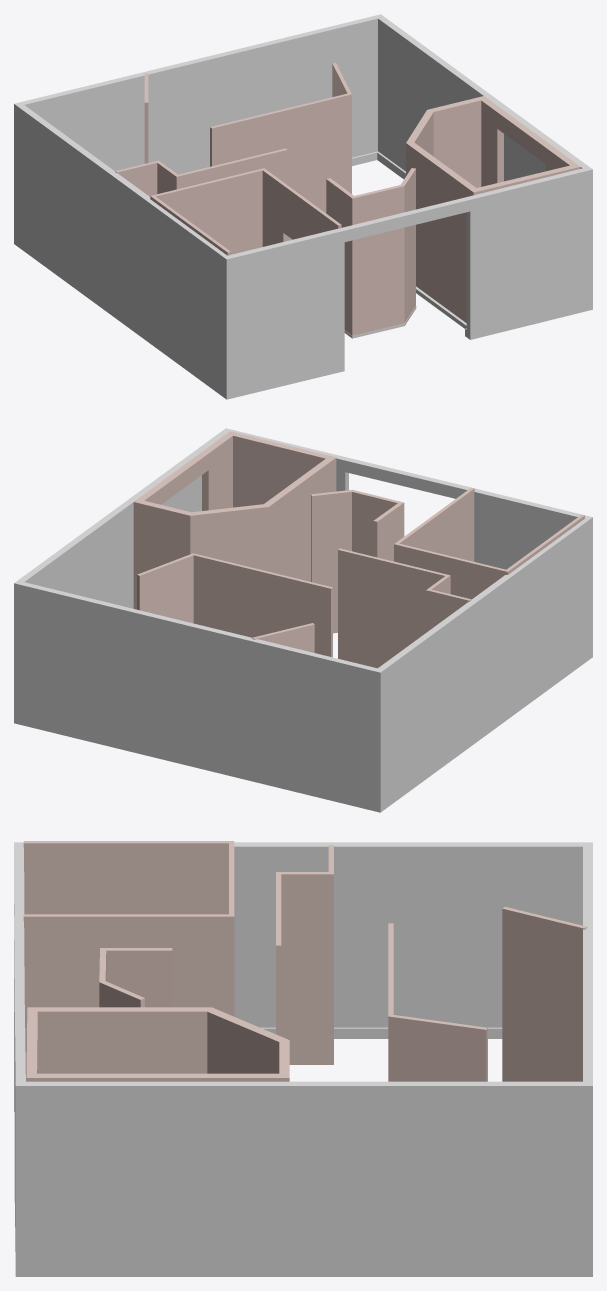
The model's file is wall1.fbx.
3 views of the same model, one above another, from view 1: azimuth 30°, elevation 25°; view 2: azimuth 150°, elevation 25°; view 3: azimuth 270°, elevation 25° (orthographic). The views are drawn at different scales.
Visible parts, largest first — view 1: Baseboard, Room.001, Room.003, Room.005, Room.002, Room; view 2: Baseboard, Room.001, Room.005, Room, Room.003, Room.002, Room.004; view 3: Baseboard, Room.002, Room.001, Room.004, Room, Room.005, Room.003.
Part boxes in pixels (box(x1,y1,x2,y2)): Baseboard: box(14, 14, 592, 399); Room.001: box(406, 96, 580, 322); Room.003: box(326, 168, 415, 335); Room.005: box(210, 63, 351, 240); Room.002: box(150, 168, 341, 255); Room: box(115, 148, 287, 240); Baseboard: box(14, 428, 592, 812); Room.001: box(133, 431, 336, 609); Room.005: box(137, 553, 332, 657); Room: box(338, 548, 471, 668); Room.003: box(311, 489, 404, 633); Room.002: box(394, 487, 584, 599); Room.004: box(252, 623, 314, 652); Baseboard: box(14, 842, 592, 1276); Room.002: box(23, 841, 234, 1081); Room.001: box(26, 1007, 289, 1081); Room.004: box(502, 907, 587, 1081); Room: box(276, 845, 333, 1064); Room.005: box(388, 923, 487, 1081); Room.003: box(99, 948, 172, 1007).
Bounding box in the file's own units: 1100 × 1095 × 410.
